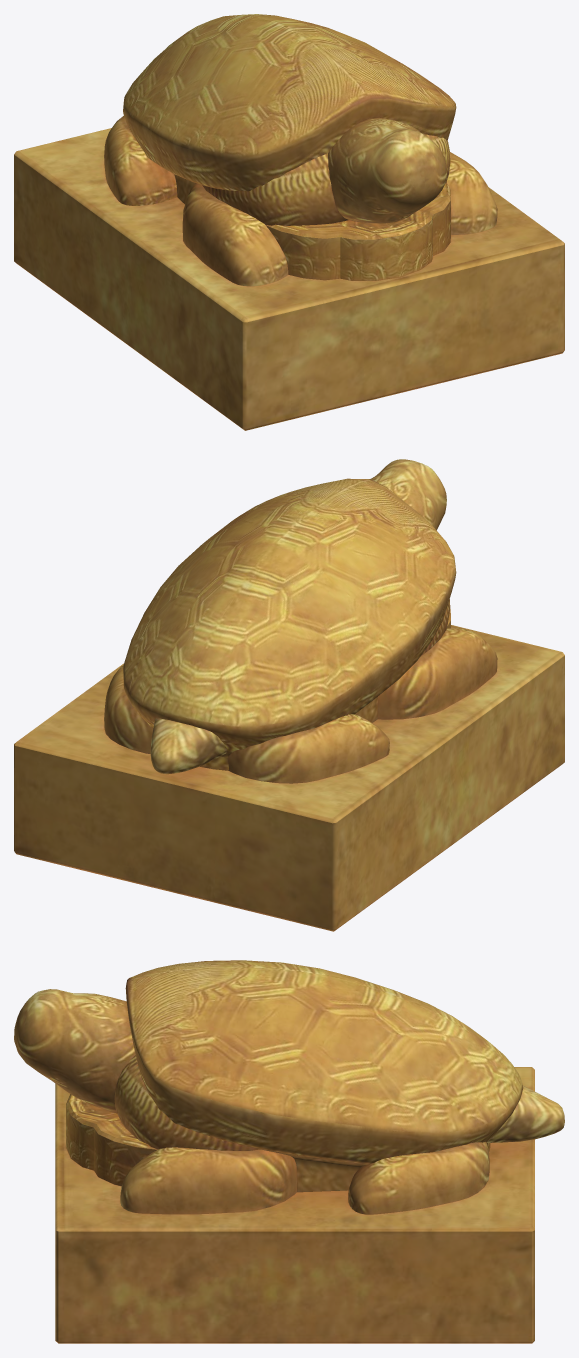
File: eobo.glb
The picture shows the model from 3 angles, top to bottom: view 1: azimuth 30°, elevation 25°; view 2: azimuth 150°, elevation 25°; view 3: azimuth 270°, elevation 25°; orthographic projection. The views are drawn at different scales.
Parts seen in each view (by area): view 1: SM_GJJ_Royalseal; view 2: SM_GJJ_Royalseal; view 3: SM_GJJ_Royalseal.
Boxes of the visible parts, left/top/right/bottom form: SM_GJJ_Royalseal: left=14, top=14, right=564, bottom=430; SM_GJJ_Royalseal: left=14, top=459, right=564, bottom=931; SM_GJJ_Royalseal: left=14, top=960, right=564, bottom=1343.
Size of the model in its own units: 0.0837 by 0.0708 by 0.1196.
Materials: 1 (1 with a texture image).
